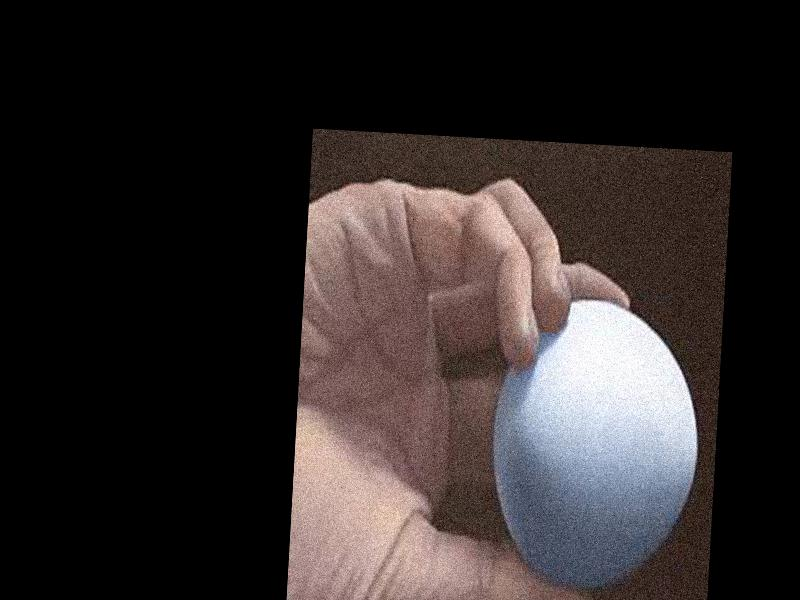Eggs: (487, 292, 707, 591)
